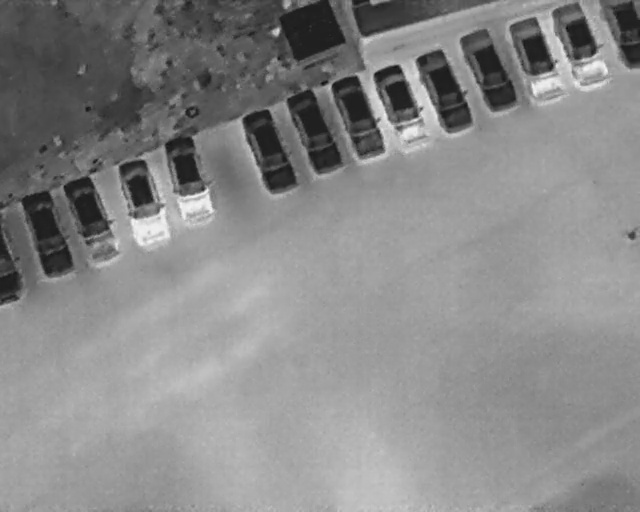Car: (406, 40, 484, 144), (58, 166, 130, 270), (325, 65, 397, 167), (500, 8, 574, 107), (452, 20, 525, 119), (233, 101, 303, 201), (279, 82, 349, 182), (155, 131, 224, 232), (110, 152, 179, 253), (365, 56, 437, 152), (546, 0, 617, 96), (15, 186, 79, 283), (602, 0, 639, 69), (0, 217, 23, 305)
